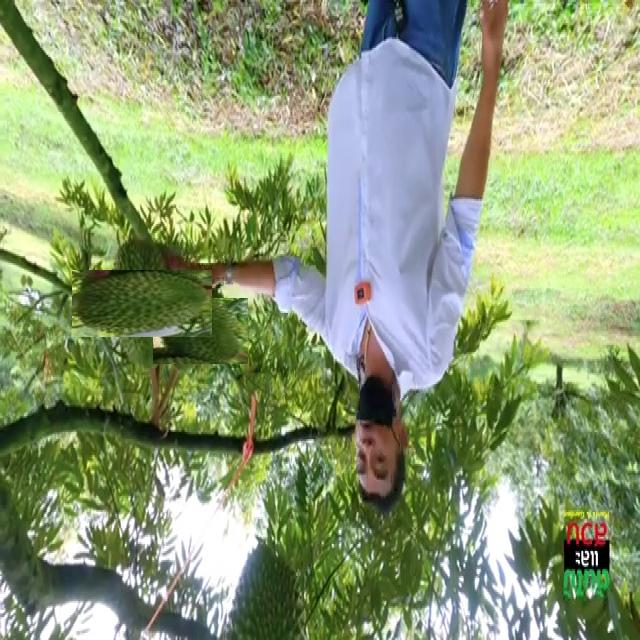durian: (90, 252, 194, 356), (223, 539, 306, 640), (160, 291, 241, 372)
